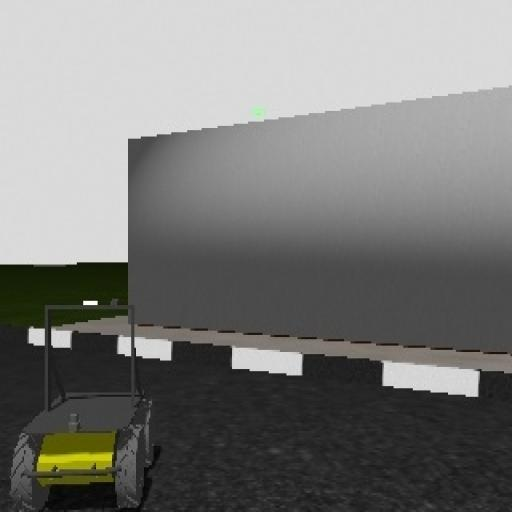huskya200: (8, 292, 156, 512)
